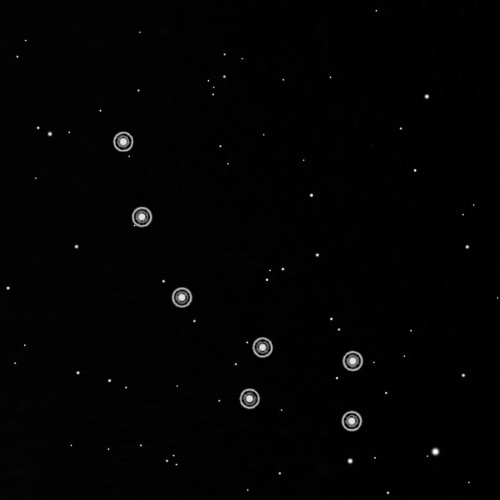ursa_minor: (108, 127, 369, 438)
